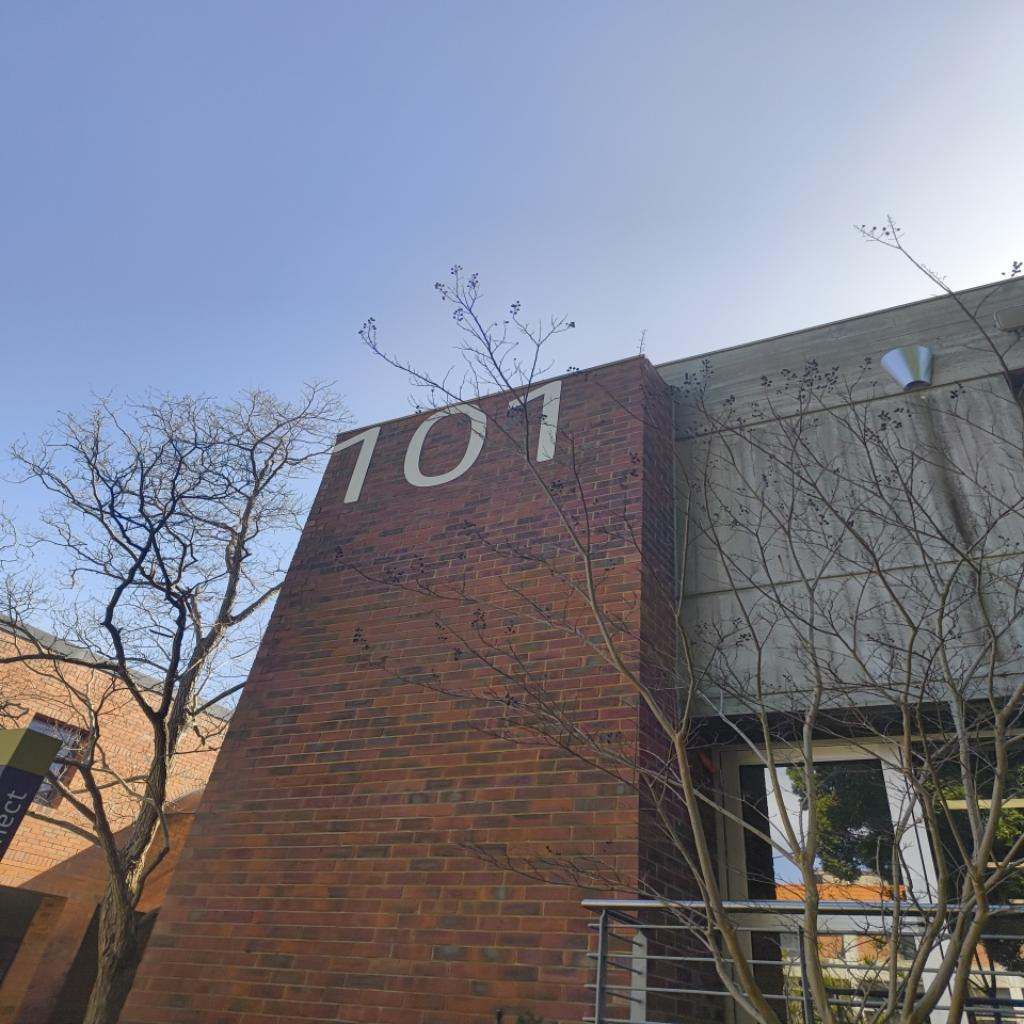BuildingCodes: (330, 376, 568, 506)
